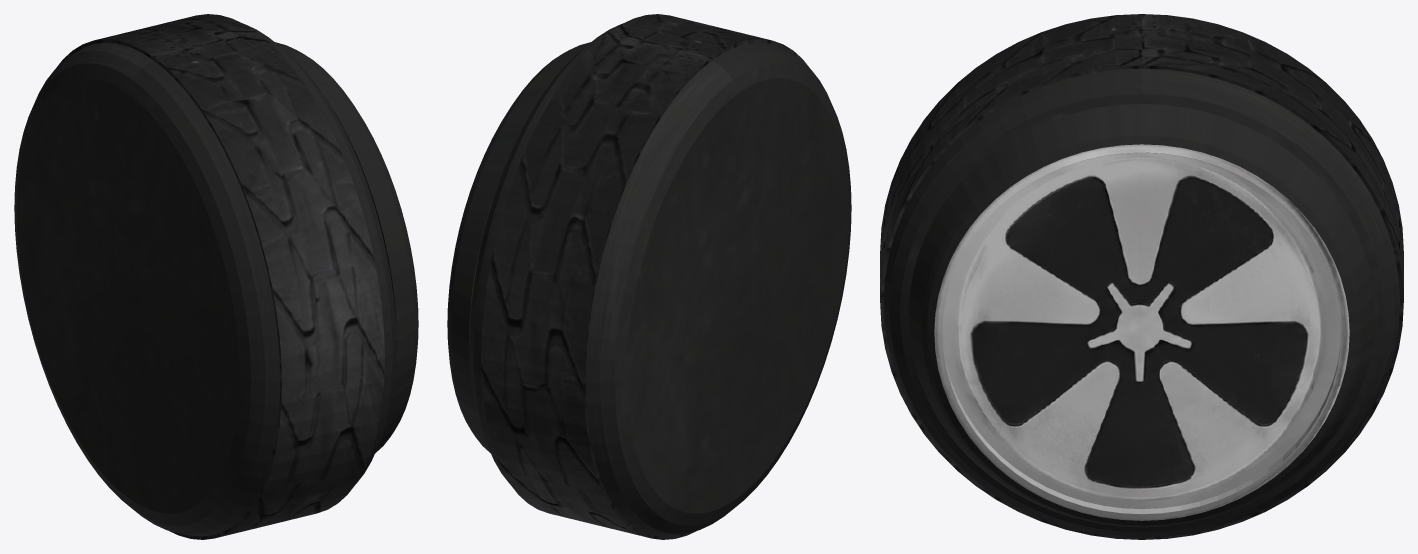
Rendered from RuedaOverBoard.fbx.
The picture shows the model from 3 angles, left to right: view 1: azimuth 30°, elevation 25°; view 2: azimuth 150°, elevation 25°; view 3: azimuth 270°, elevation 25°; orthographic projection. The views are drawn at different scales.
Parts seen in each view (by area): view 1: Ruedas.003; view 2: Ruedas.003; view 3: Ruedas.003.
Part boxes in pixels (x1,y1,x2,y2): Ruedas.003: [14, 14, 418, 539]; Ruedas.003: [447, 14, 851, 539]; Ruedas.003: [880, 14, 1403, 539].
Size of the model in its own units: 14.79 by 34.47 by 34.47.
Materials: 1 (1 with a texture image).
